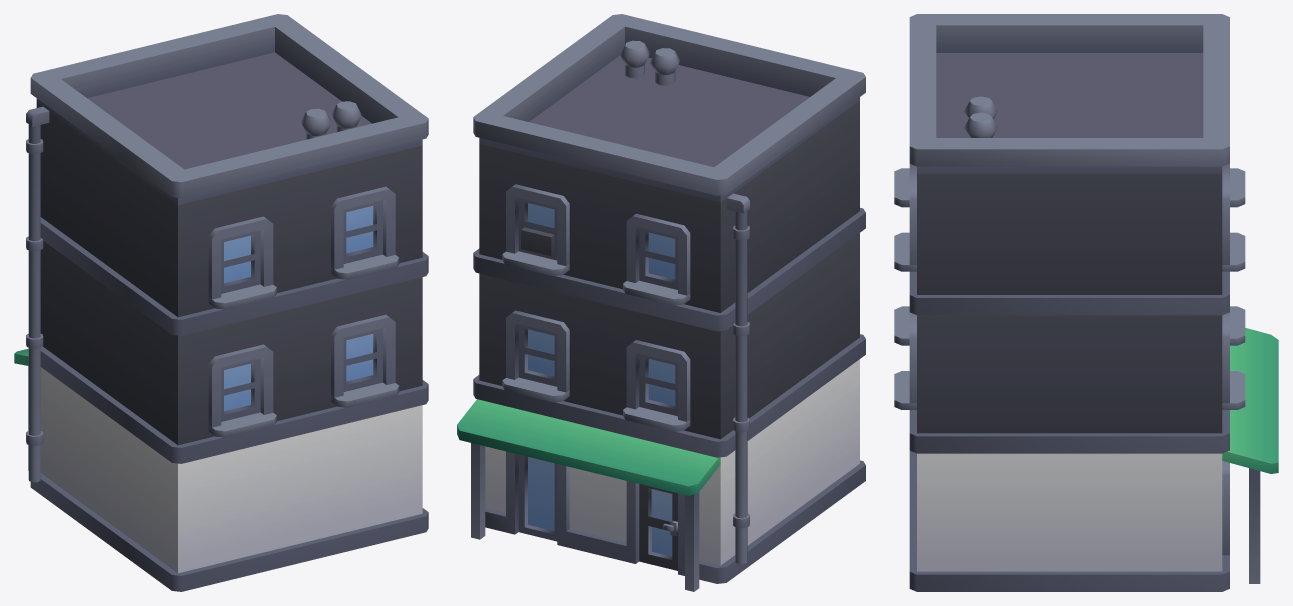
The model's file is k-city-kit-commercial-building-h.glb.
3 renders of one model, left to right at view 1: azimuth 30°, elevation 25°; view 2: azimuth 150°, elevation 25°; view 3: azimuth 270°, elevation 25°, orthographic. The views are drawn at different scales.
Visible parts, largest first — view 1: building-h; view 2: building-h; view 3: building-h.
Boxes of the visible parts, x1=… form: building-h: x1=14, y1=14, x2=428, y2=591; building-h: x1=457, y1=14, x2=865, y2=591; building-h: x1=894, y1=14, x2=1278, y2=591.
Bounding box in the file's own units: 0.8835 × 1.29 × 1.01.
1 material, 1 textured.
